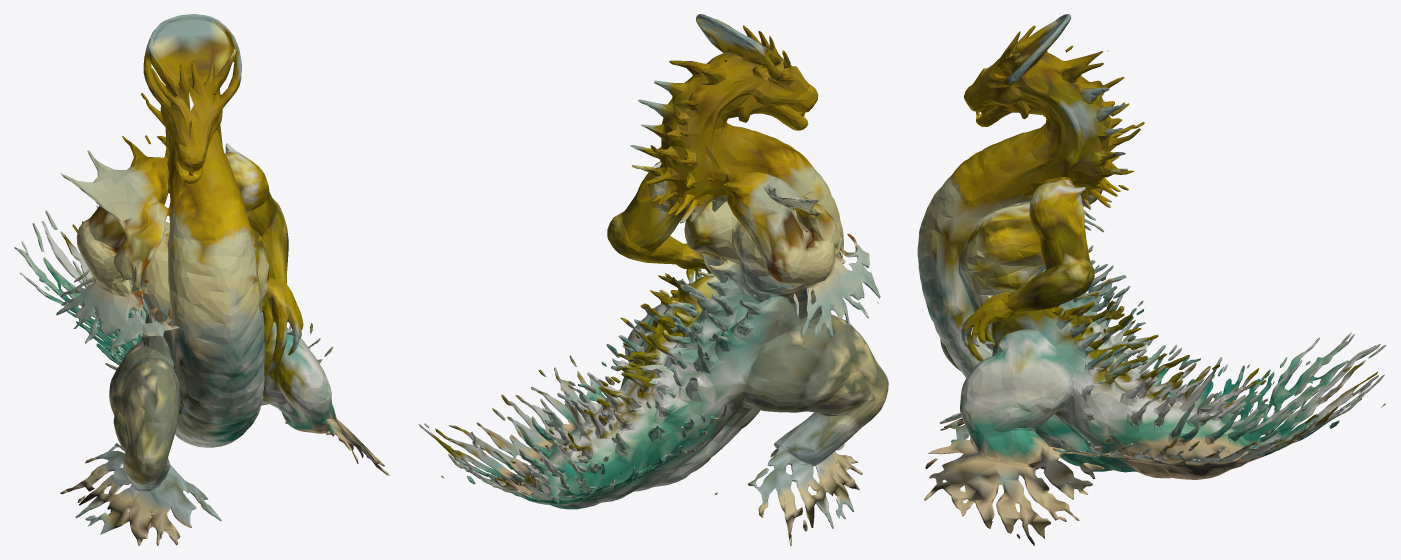
File: phoenix.glb
3 renders of one model, left to right at view 1: azimuth 30°, elevation 25°; view 2: azimuth 150°, elevation 25°; view 3: azimuth 270°, elevation 25°, orthographic. The views are drawn at different scales.
Visible parts, largest first — view 1: world; view 2: world; view 3: world.
Part boxes in pixels (<box>): world: <box>14,14,389,545</box>; world: <box>418,14,888,545</box>; world: <box>917,14,1386,545</box>.
Size of the model in its own units: 0.6341 by 1 by 0.9363.
